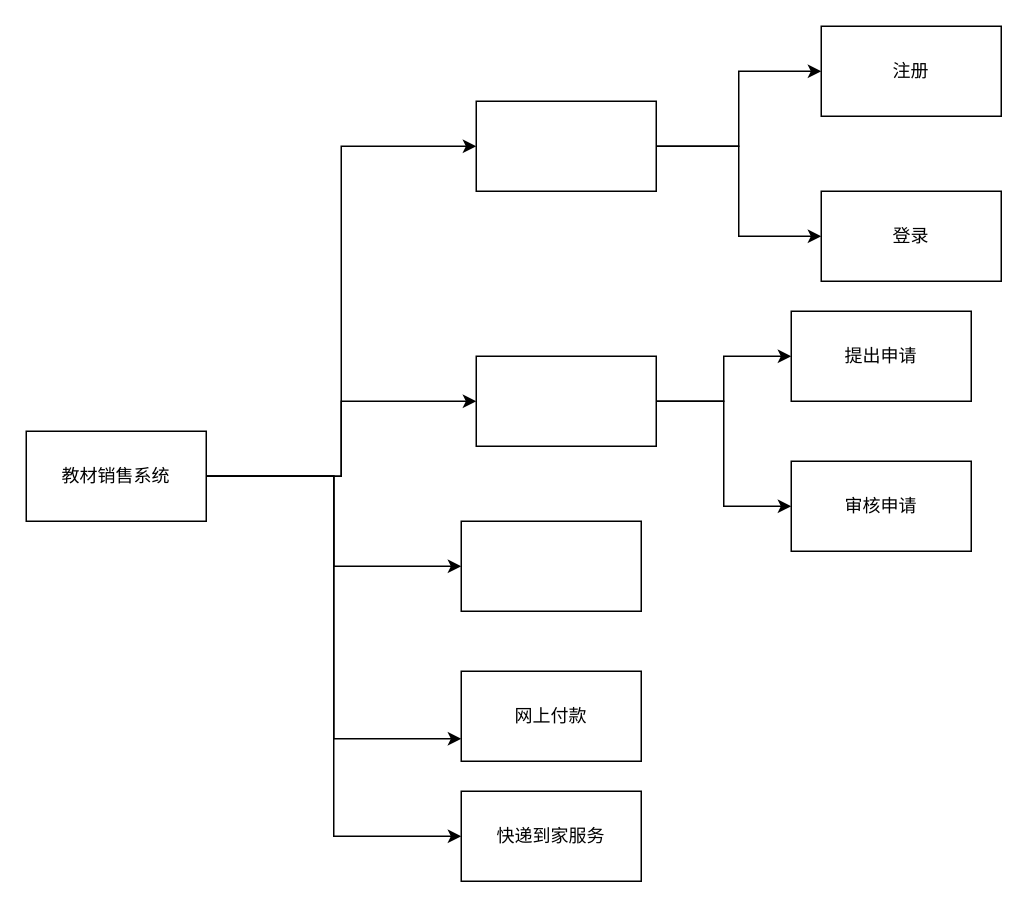
This 1028x908 diagram has some shape labels left out. The shapes that lost their labels are listed below. From the top down, each one's centre as x and y in pixels, then its label:
At (565,145): "登录平台".
At (565,400): "购书申请".
At (550,565): "教材科签发购书证明".
